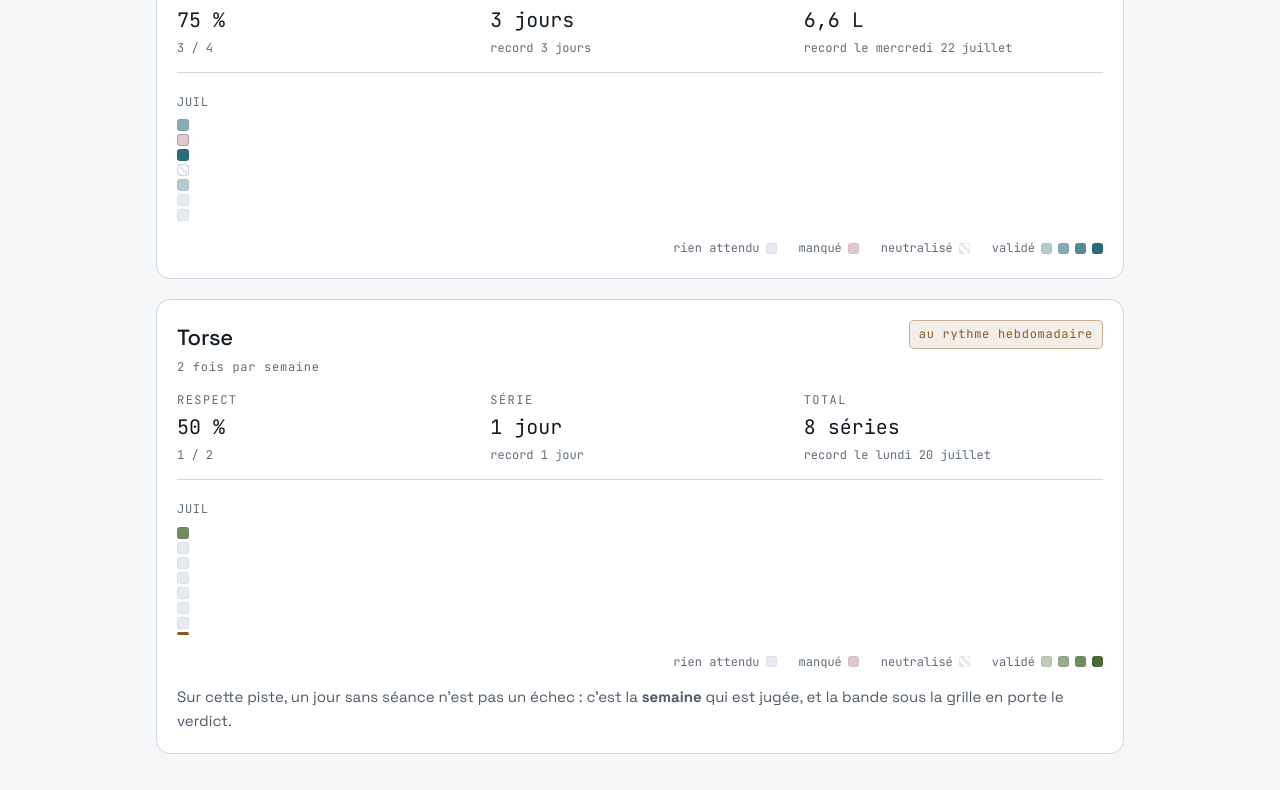
Test: écran Assiduité › ouvre le détail d’un jour au clic sur sa cellule
The image size is (1280, 790).
(page scrolled)
Click the button named "lundi 20 juillet, 8 série · validé": (183, 532) [177,526,189,538]
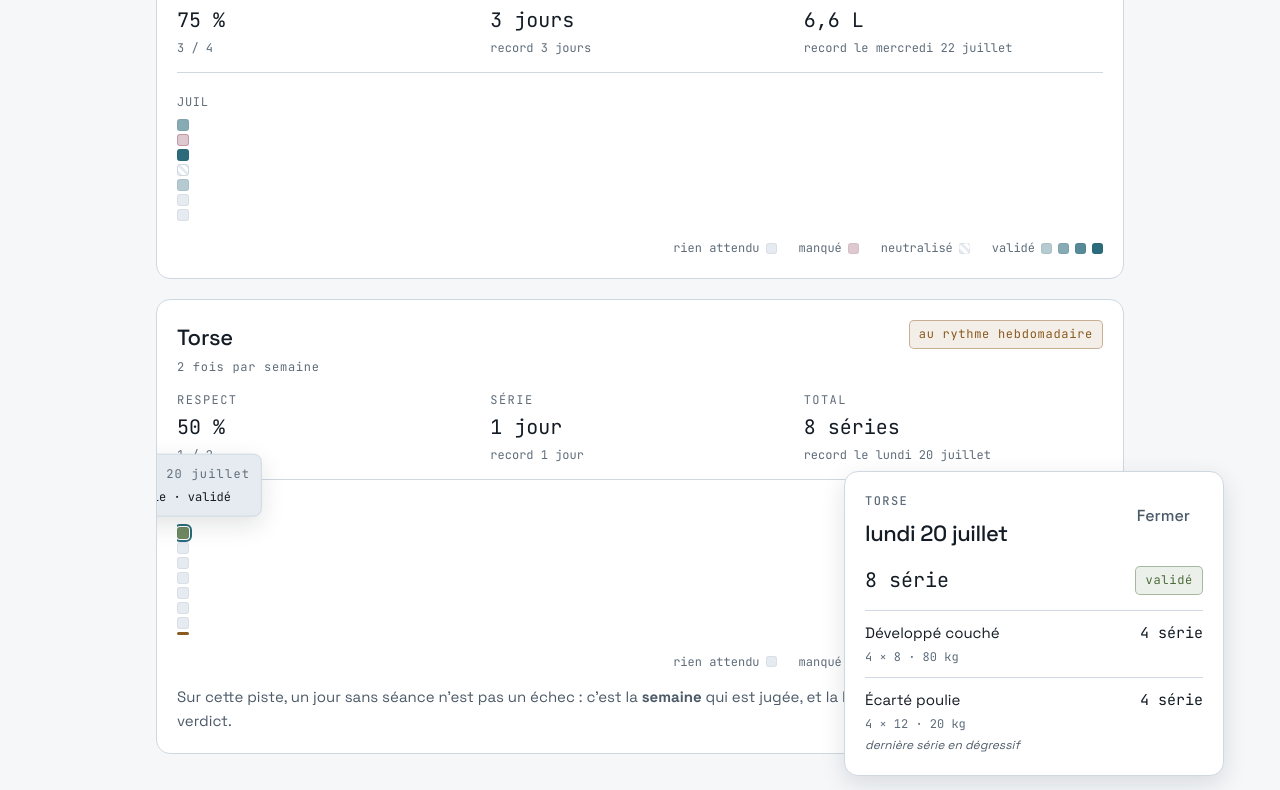
Now the dialog "20 juillet" is shown, box [844,471,1224,776]
Now the text "Développé couché" is shown, box [865,621,1000,644]
Now the text "dernière série en dégressif" is shown, box [865,737,1020,753]
